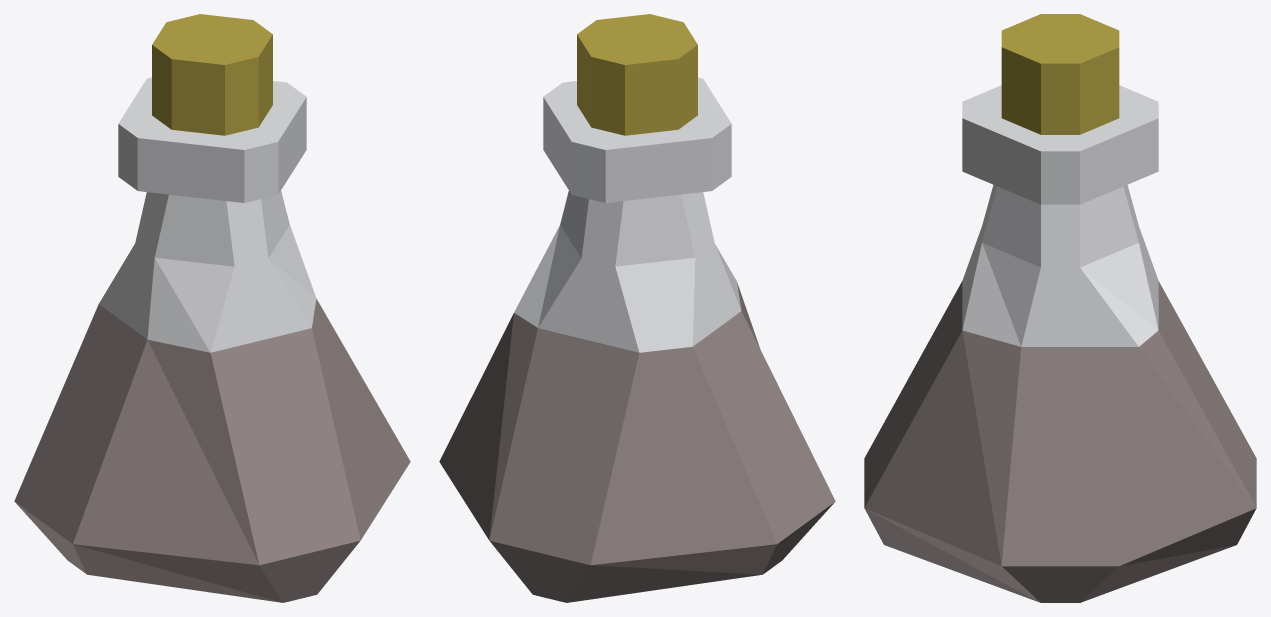
The model's file is inv_zamorak_potion_3.obj.
3 views of the same model, side by side, from view 1: azimuth 30°, elevation 25°; view 2: azimuth 150°, elevation 25°; view 3: azimuth 270°, elevation 25° (orthographic).
Bounding box in the file's own units: 0.1562 × 0.2188 × 0.1562.
